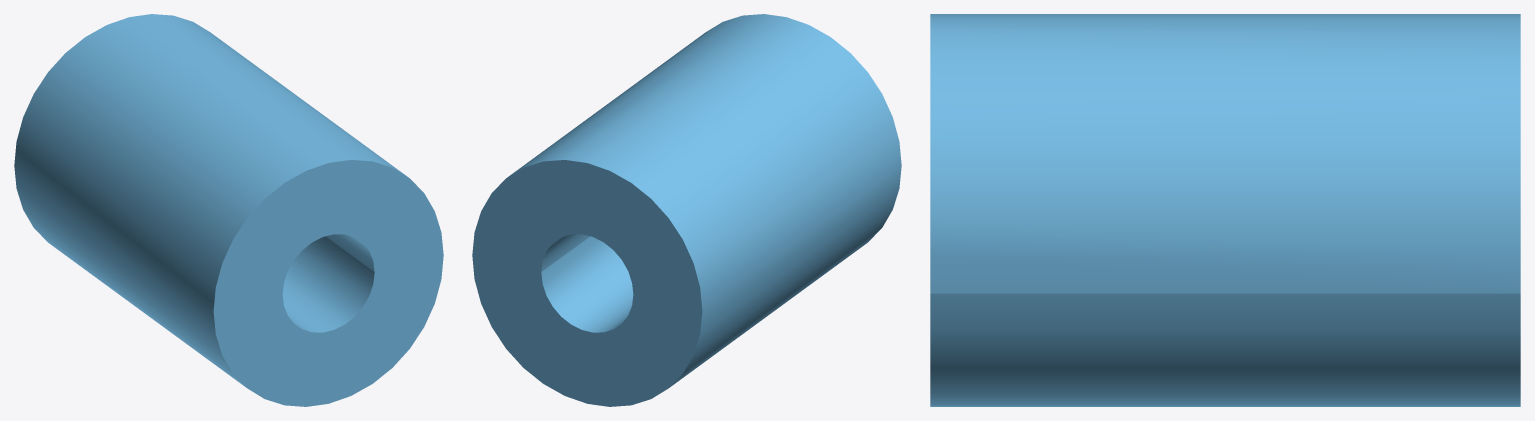
Rendered from preview.glb.
The picture shows the model from 3 angles, left to right: view 1: azimuth 30°, elevation 25°; view 2: azimuth 150°, elevation 25°; view 3: azimuth 270°, elevation 25°; orthographic projection. The views are drawn at different scales.
Parts seen in each view (by area): view 1: Parasolid preview; view 2: Parasolid preview; view 3: Parasolid preview.
Part boxes in pixels (x1=…): Parasolid preview: x1=14, y1=14, x2=443, y2=406; Parasolid preview: x1=472, y1=14, x2=901, y2=406; Parasolid preview: x1=930, y1=14, x2=1520, y2=406.
Bounding box in the file's own units: 20 × 20 × 30.
